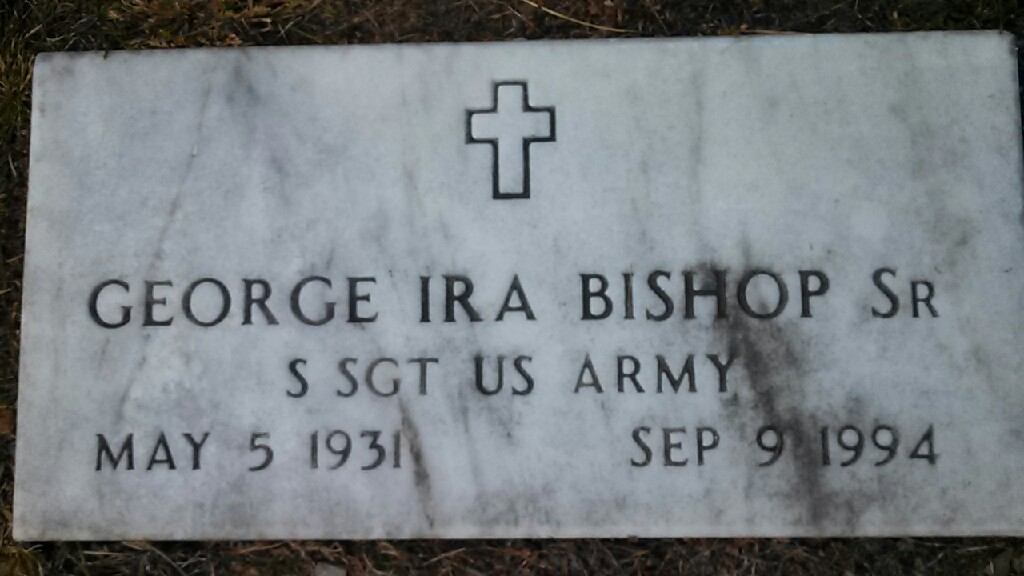flat: (20, 36, 1013, 550)
